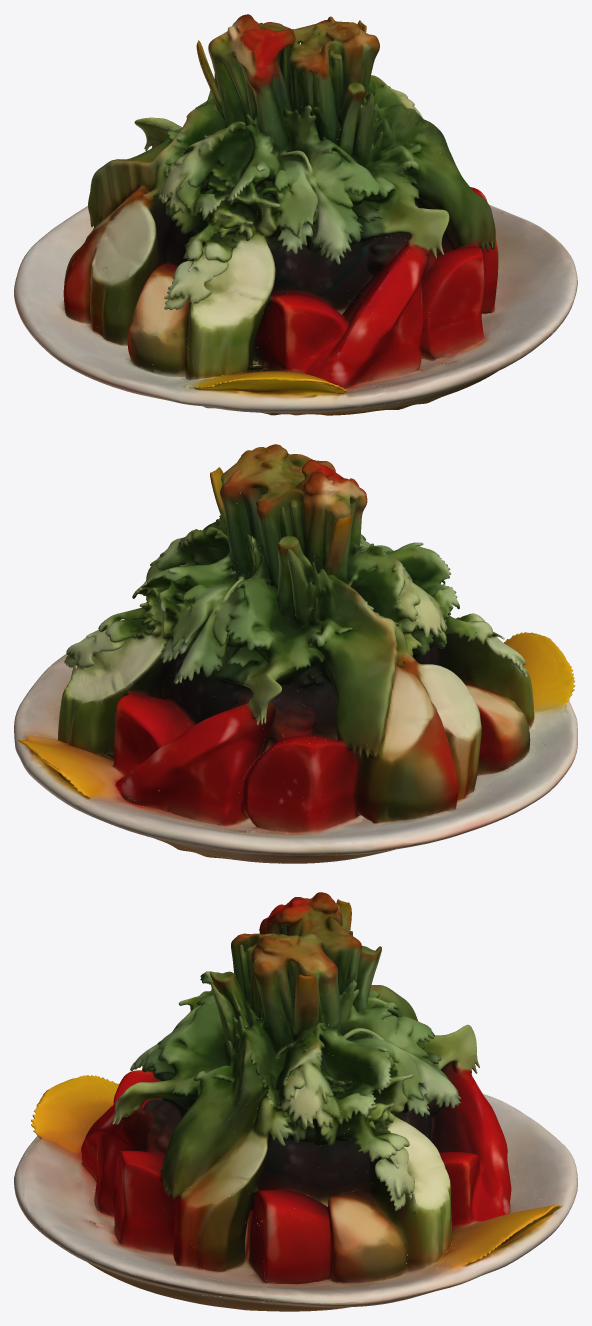
File: ovoshi.glb
3 renders of one model, top to bottom at view 1: azimuth 30°, elevation 25°; view 2: azimuth 150°, elevation 25°; view 3: azimuth 270°, elevation 25°, orthographic.
Parts seen in each view (by area): view 1: ovoshi; view 2: ovoshi; view 3: ovoshi.
Part boxes in pixels (left/top/right/bottom): ovoshi: left=14, top=14, right=577, bottom=415; ovoshi: left=14, top=444, right=577, bottom=863; ovoshi: left=14, top=892, right=577, bottom=1311.
Size of the model in its own units: 0.9796 by 0.6138 by 0.978.
1 material, 1 textured.
